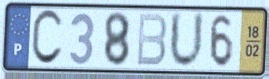3: (68, 10, 97, 67)
6: (209, 13, 235, 70)
8: (102, 9, 133, 69)
B: (135, 12, 169, 68)
C: (29, 8, 65, 68)
U: (168, 10, 206, 72)
